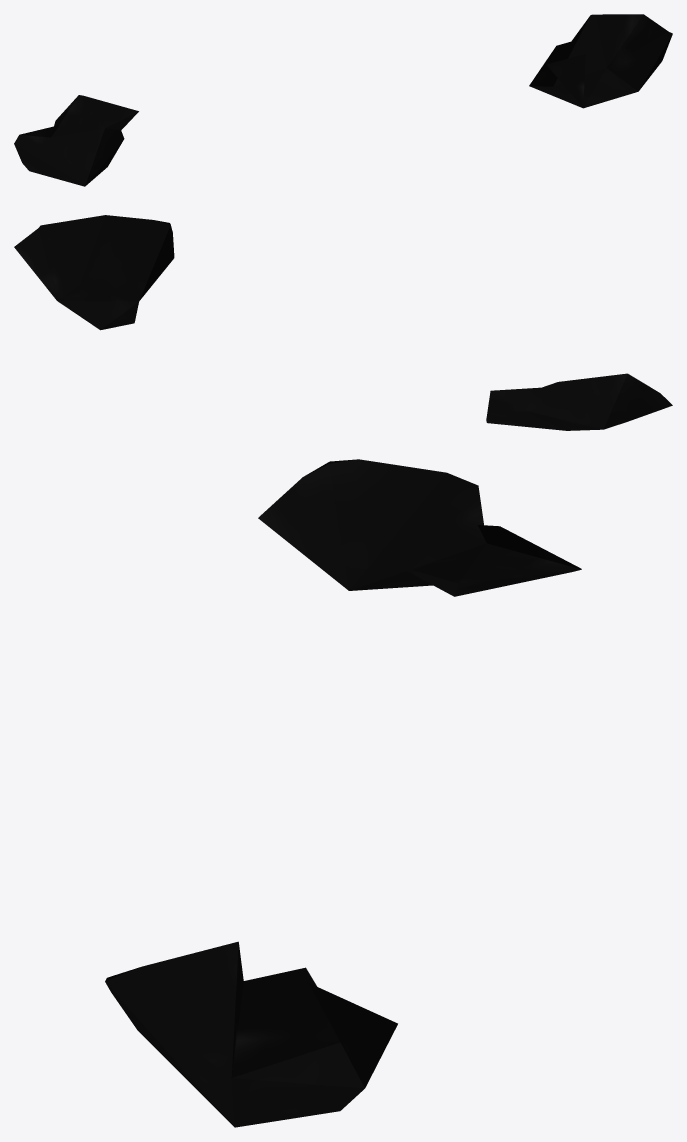
3 views of the same model, one above another, from view 1: azimuth 30°, elevation 25°; view 2: azimuth 150°, elevation 25°; view 3: azimuth 270°, elevation 25° (orthographic). The views are drawn at different scales.
Size of the model in its own units: 0.4935 by 0.0415 by 0.1641.
Materials: 1 (1 with a texture image).
